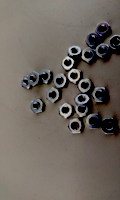nut: (68, 118, 84, 135), (102, 119, 118, 135), (82, 47, 97, 64), (59, 103, 75, 118), (96, 22, 111, 38), (86, 114, 101, 129), (96, 44, 111, 59), (93, 88, 109, 102), (31, 98, 45, 114), (46, 87, 60, 103), (75, 93, 90, 107), (79, 78, 93, 93), (86, 33, 100, 48), (68, 69, 81, 85), (28, 72, 41, 87), (76, 104, 89, 118), (54, 74, 67, 88), (68, 46, 82, 59), (62, 57, 75, 71), (40, 70, 53, 84), (110, 35, 120, 51), (22, 75, 31, 89)
